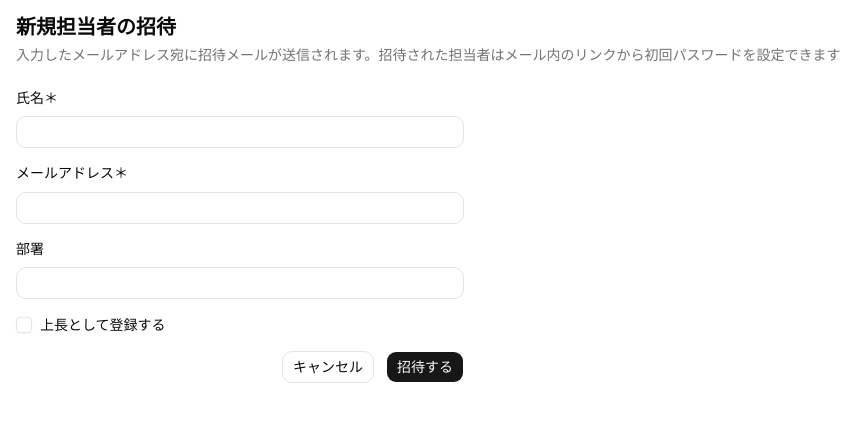
it: SalesPersonInviteForm › rejects submission when email is empty
Type "佐藤次郎" into the field labelled "氏名＊".
click(240, 132); type("佐藤次郎")  # box [16,116,464,148]
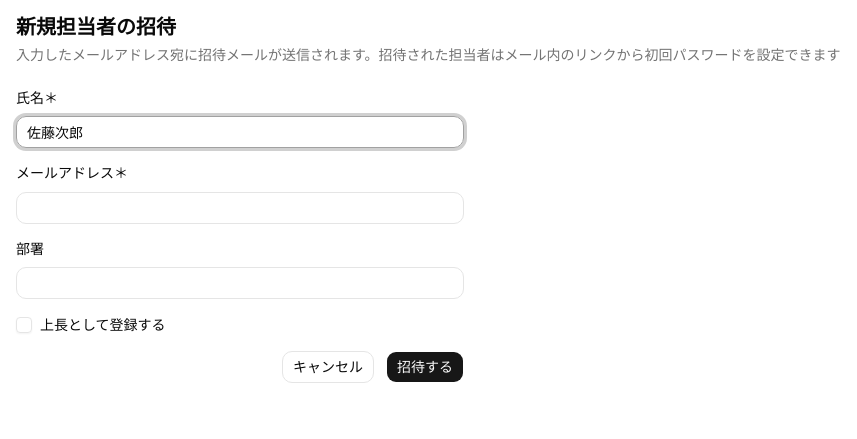
Click the button "招待する".
click(425, 367)  # box [386,351,464,383]
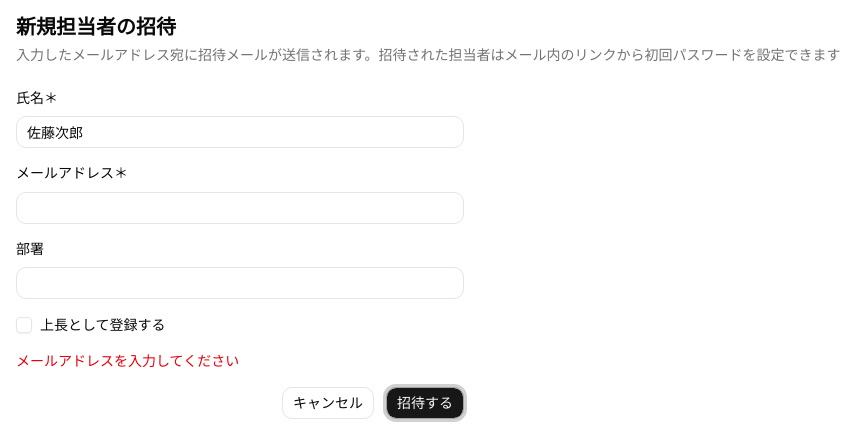
Expected: the text "メールアドレスを入力してください" is shown, [16,352,239,370]
